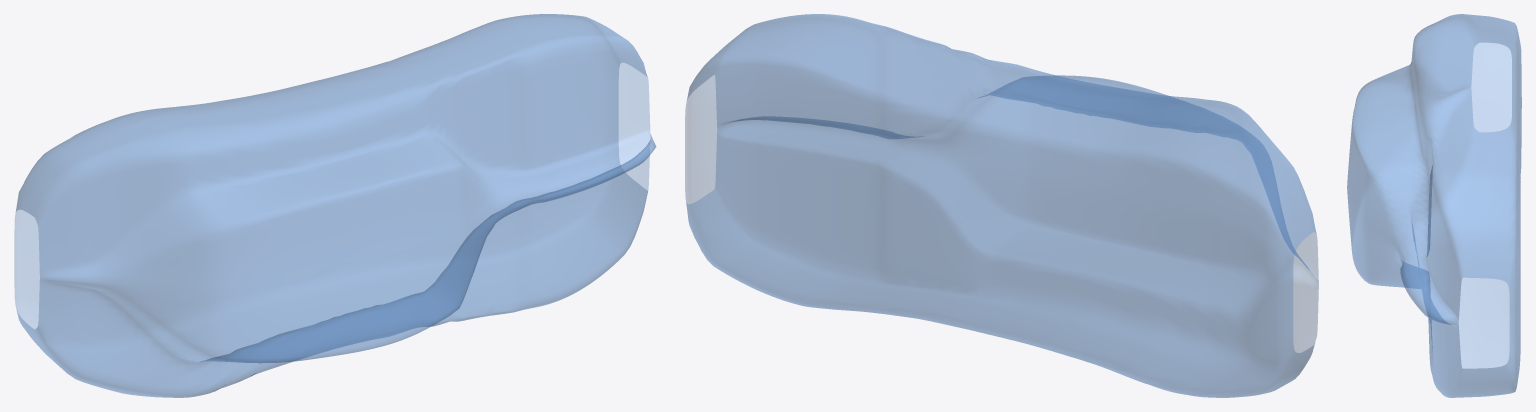
Rendered from modern_car_v2_reference_semantic_uv_surface.glb.
3 renders of one model, left to right at view 1: azimuth 30°, elevation 25°; view 2: azimuth 150°, elevation 25°; view 3: azimuth 270°, elevation 25°, orthographic. The views are drawn at different scales.
Parts seen in each view (by area): view 1: world; view 2: world; view 3: world.
Boxes of the visible parts, bbox=[...] form: world: bbox=[14, 14, 656, 397]; world: bbox=[685, 14, 1318, 397]; world: bbox=[1347, 14, 1521, 397].
Bounding box in the file's own units: 4.34 × 1.81 × 1.36.
